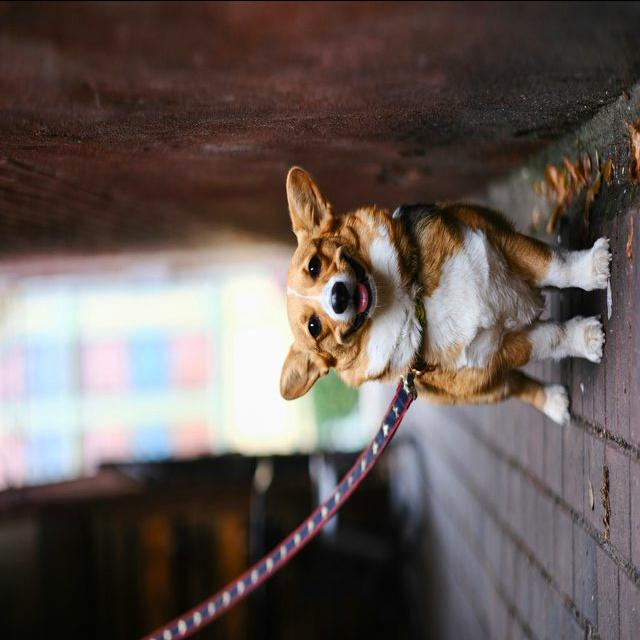corgi: (277, 163, 613, 425)
